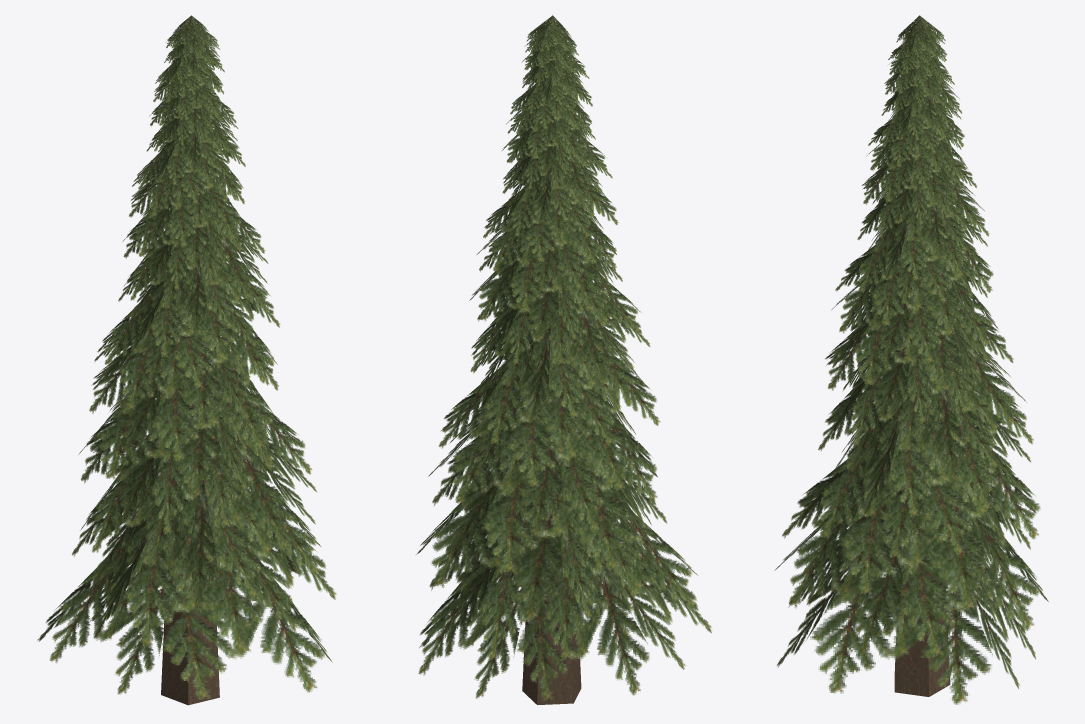
Rendered from tree.glb.
3 views of the same model, side by side, from view 1: azimuth 30°, elevation 25°; view 2: azimuth 150°, elevation 25°; view 3: azimuth 270°, elevation 25° (orthographic).
Visible parts, largest first — view 1: Cone; view 2: Cone; view 3: Cone.
Boxes of the visible parts, bbox=[...] form: Cone: bbox=[37, 15, 336, 705]; Cone: bbox=[416, 15, 711, 704]; Cone: bbox=[774, 15, 1048, 704].
Size of the model in its own units: 5.52 by 12 by 5.16.
2 materials, 2 textured.
